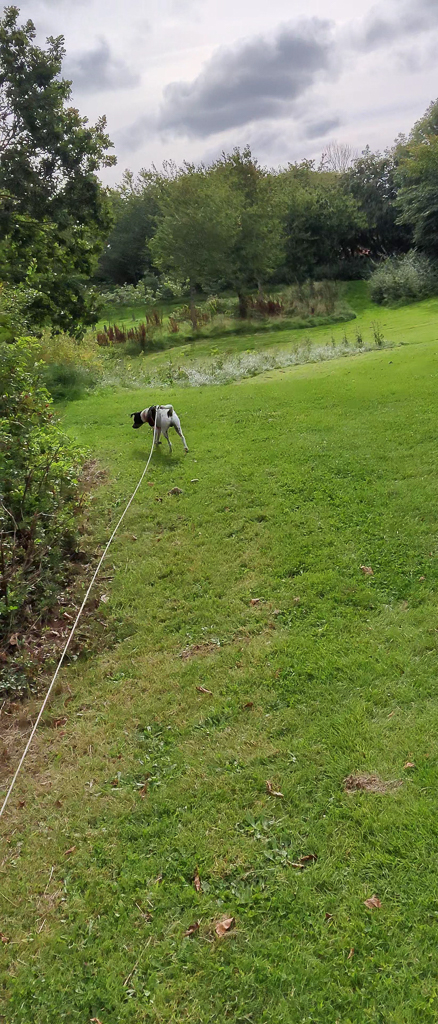Dog: (124, 399, 197, 461)
